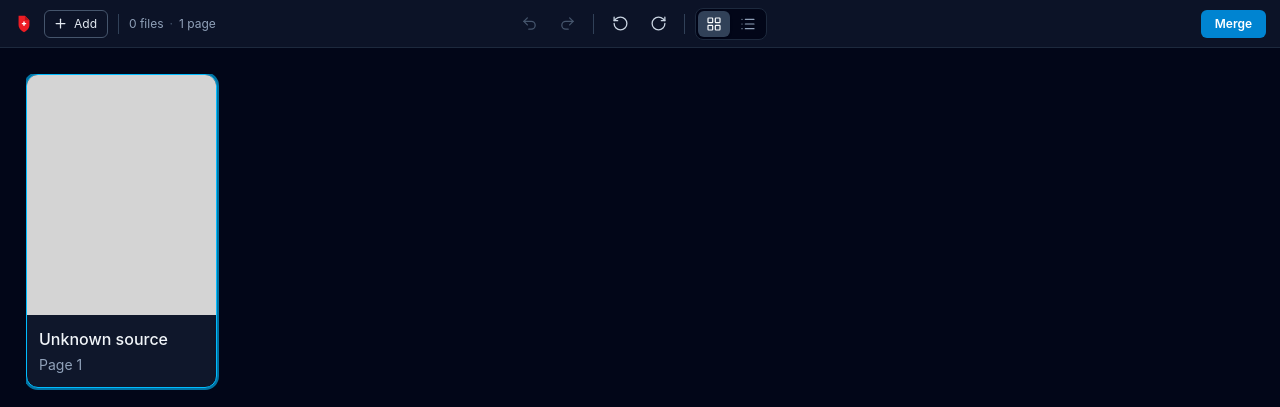
Test: Toolbar › opens the add menu and closes it on Escape, keeping the page selection
Click the button "Add" at [76, 24], box [44,10,108,38]
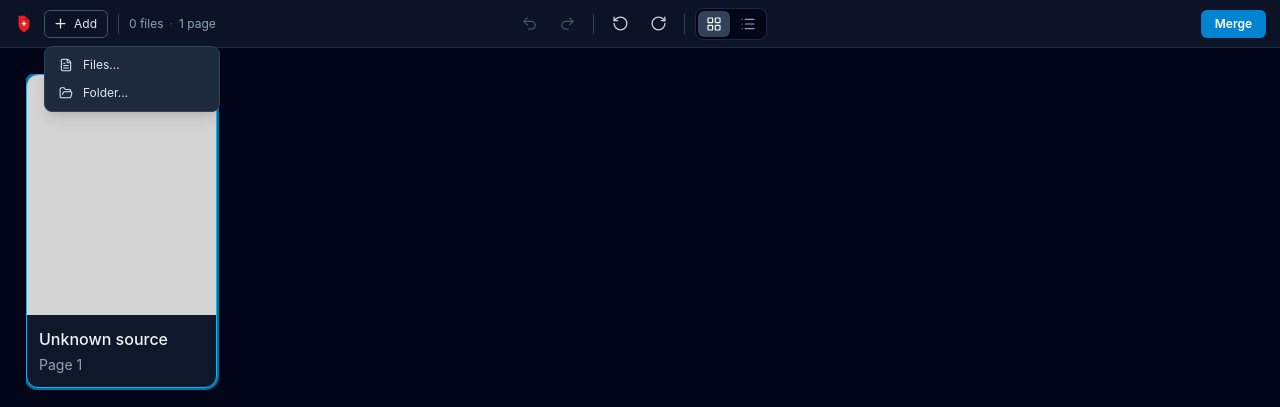
Expected: the menu is shown, [44,46,220,112]
Expected: the menu item "Files…" is shown, [49,50,215,78]
Expected: the menu item "Folder…" is shown, [49,78,215,106]
Press Escape in the button "Add", box [44,10,108,38]
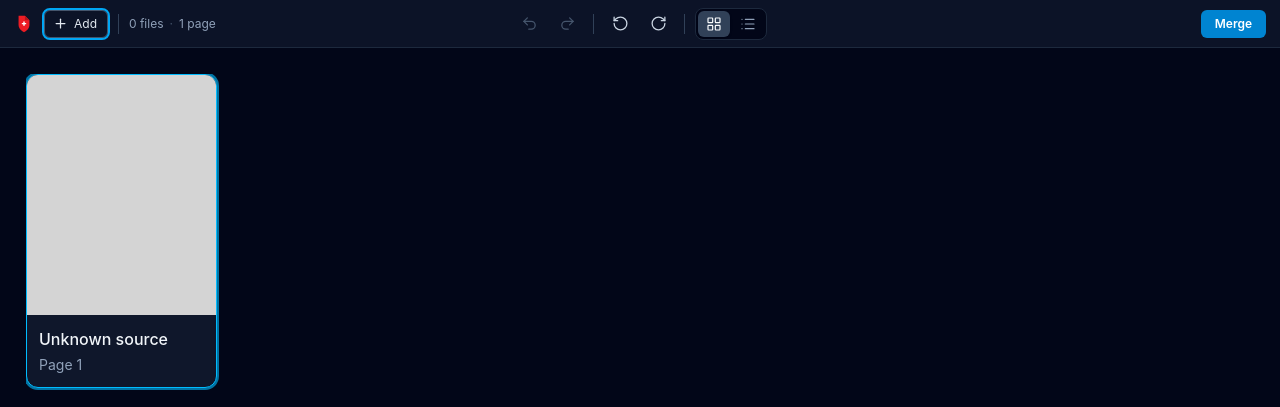
Expected: the menu is gone
